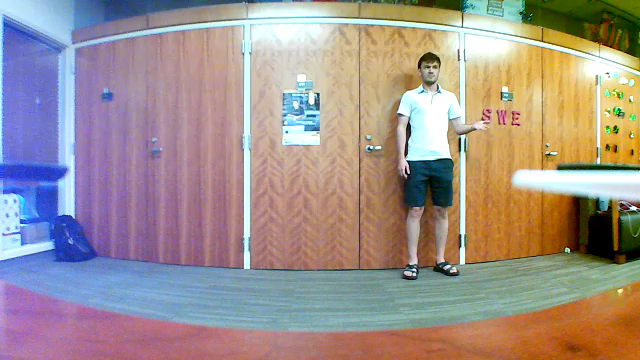land: (467, 116, 494, 134)
